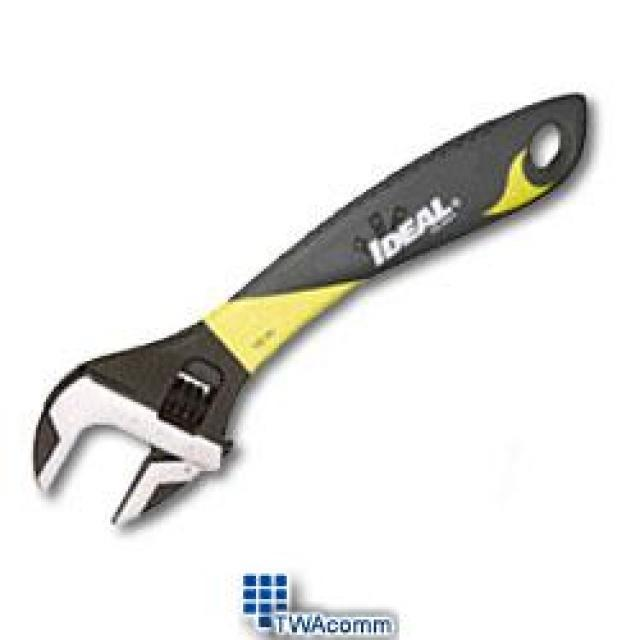wrench: (19, 78, 600, 534)
